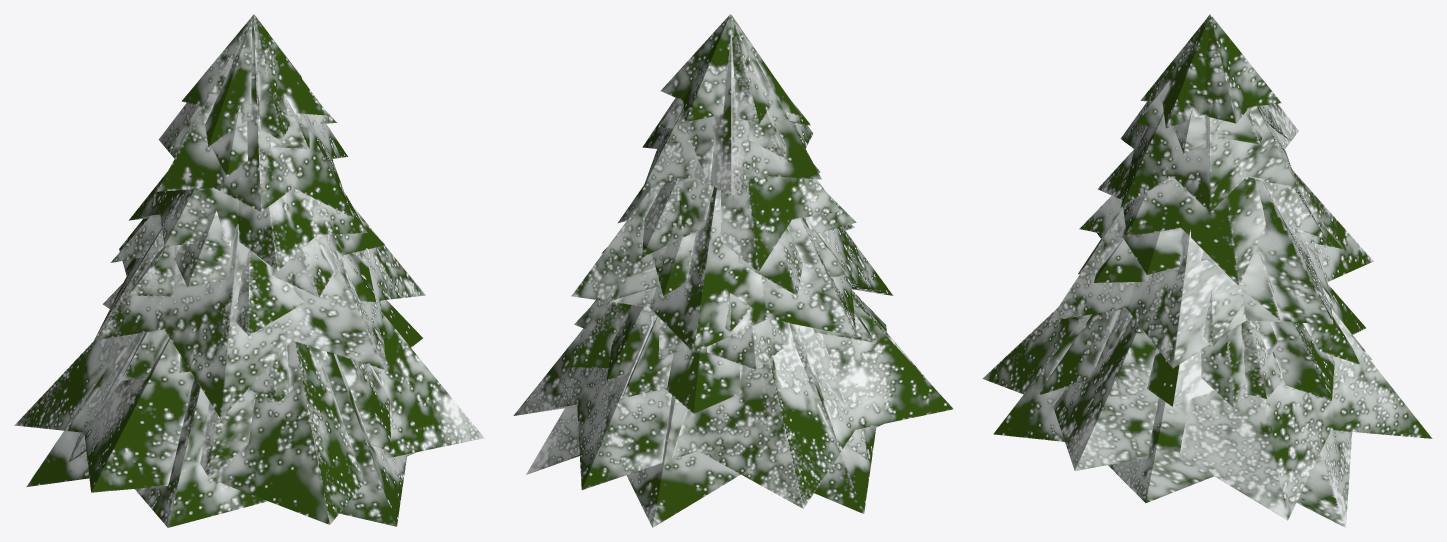
The model's file is uploads_files_3409994_ChristmasTree_2021_v5.fbx.
3 views of the same model, side by side, from view 1: azimuth 30°, elevation 25°; view 2: azimuth 150°, elevation 25°; view 3: azimuth 270°, elevation 25° (orthographic). The views are drawn at different scales.
Parts seen in each view (by area): view 1: Tree_D; view 2: Tree_D; view 3: Tree_D.
Part boxes in pixels (<box>): Tree_D: <box>14,14,484,527</box>; Tree_D: <box>513,14,953,527</box>; Tree_D: <box>982,14,1432,527</box>.
Size of the model in its own units: 413 by 479 by 437.
2 materials, 1 textured.
